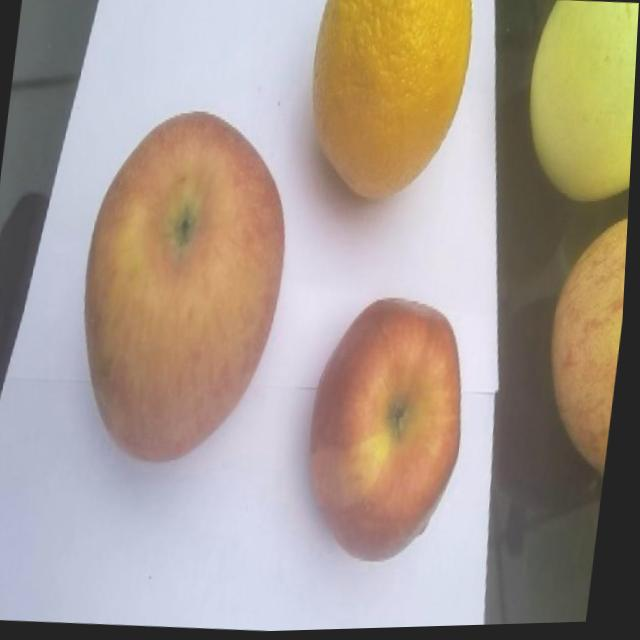Apple: (67, 104, 304, 475), (300, 294, 482, 572), (539, 214, 631, 482)
Orange: (299, 0, 478, 210)
